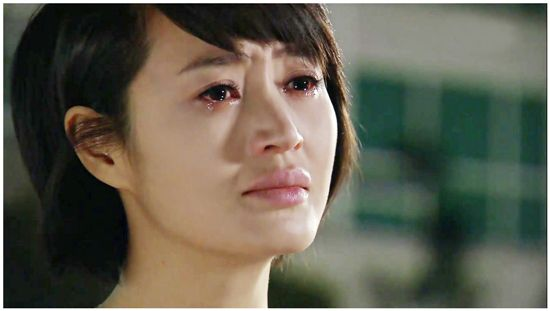neutral: (138, 15, 333, 251)
